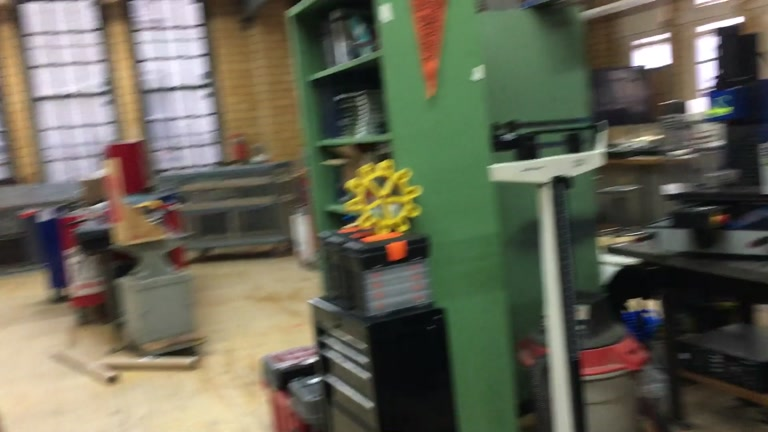gear: (344, 161, 424, 237)
